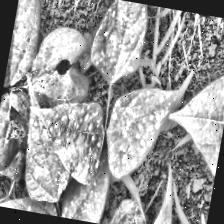Bean Rust: (102, 54, 196, 187), (20, 92, 112, 188), (159, 51, 224, 185), (87, 0, 150, 86), (3, 0, 47, 90), (59, 160, 109, 224), (0, 187, 67, 217)
